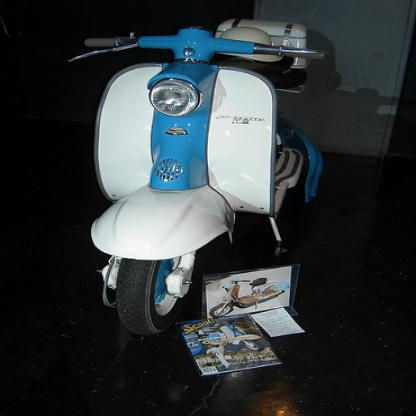motorbike: (65, 16, 345, 334), (207, 276, 288, 318)
